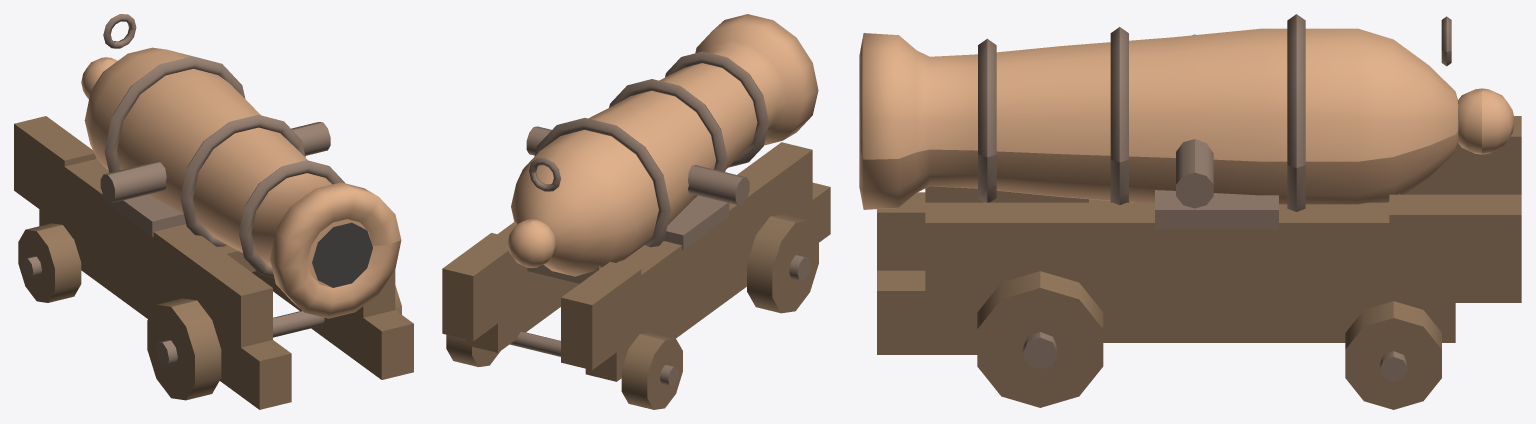
File: kanone.glb
3 views of the same model, side by side, from view 1: azimuth 30°, elevation 25°; view 2: azimuth 150°, elevation 25°; view 3: azimuth 270°, elevation 25° (orthographic). The views are drawn at different scales.
Parts seen in each view (by area): view 1: G_kanone; view 2: G_kanone; view 3: G_kanone.
Part boxes in pixels (left/top/right/bottom): G_kanone: left=14, top=14, right=413, bottom=409; G_kanone: left=442, top=14, right=830, bottom=409; G_kanone: left=859, top=14, right=1521, bottom=409.
Size of the model in its own units: 0.77 by 0.812 by 1.5.
